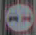No overtake: (3, 1, 34, 34)
